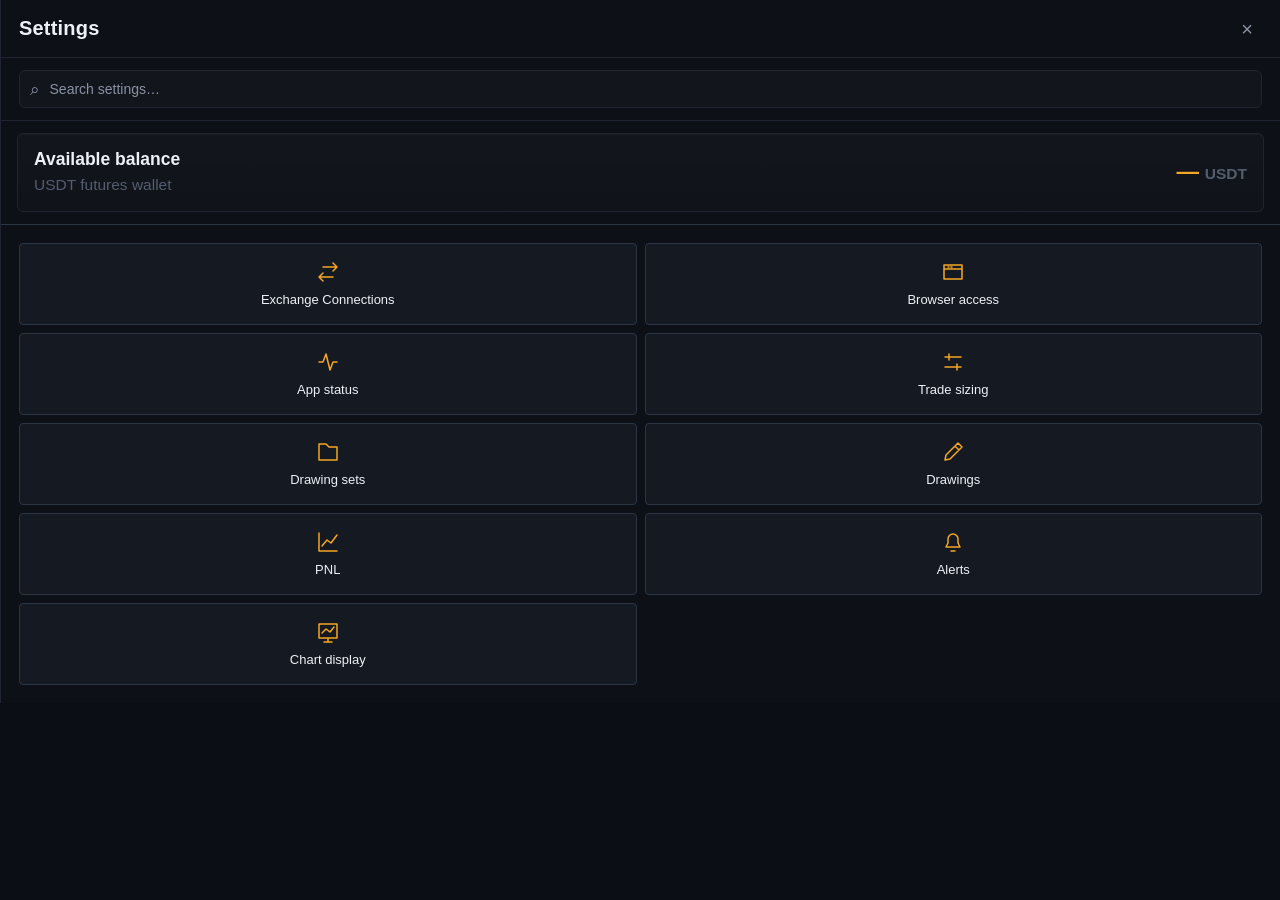
Test case: Settings section picker › loads server alerts through search even when the saved section was collapsed
The width and height of the screenshot is (1280, 900).
Type "alerts" into the search field with placeholder "Search settings…". click: (649, 89)
box: [48,80,1251,98]
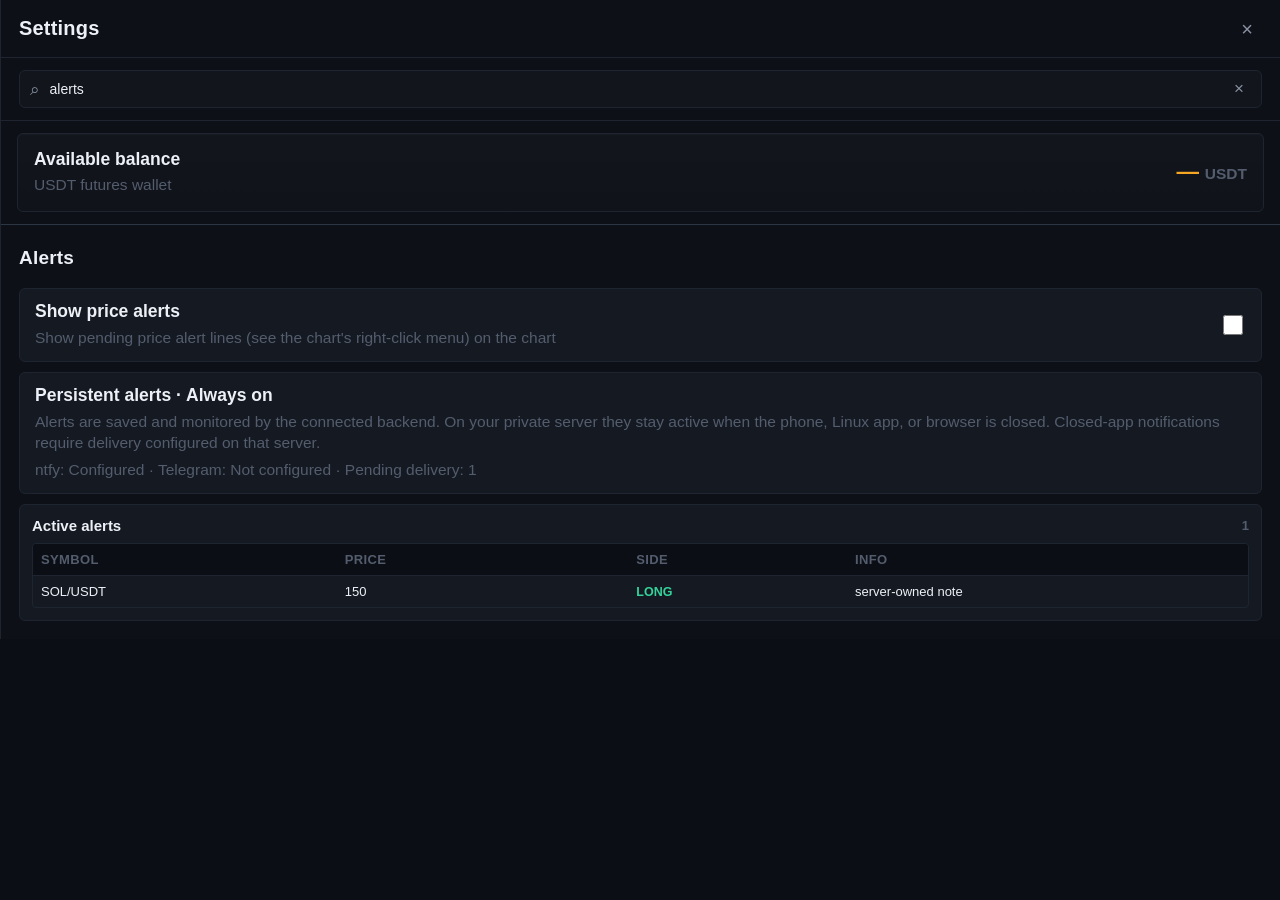
Result: the text "server-owned note" is shown at [847,575,1248,607]
